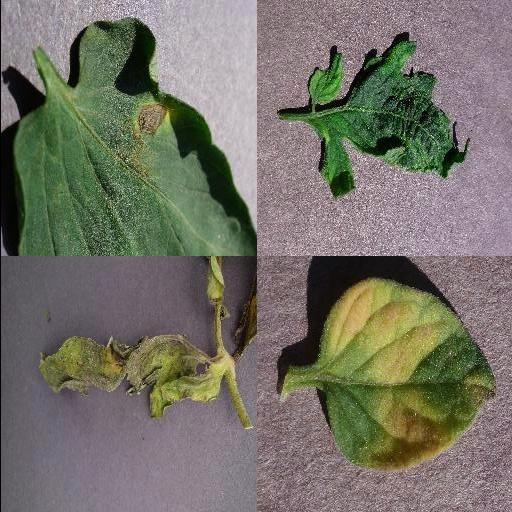Early Blight: (14, 15, 256, 256)
Late Blight: (37, 335, 221, 421)
Leaf Mold: (314, 278, 498, 474)
Mosaic Virus: (306, 39, 472, 198)
